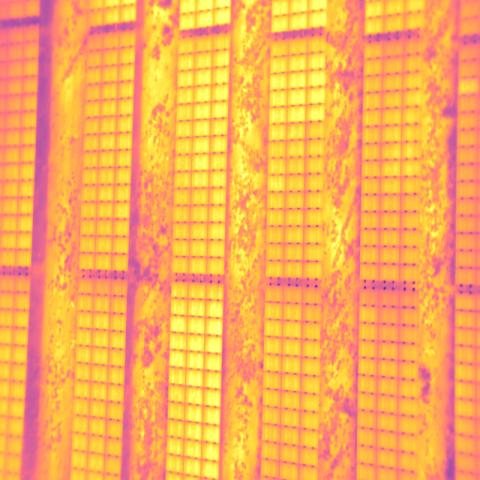fault: (459, 78, 478, 95)
